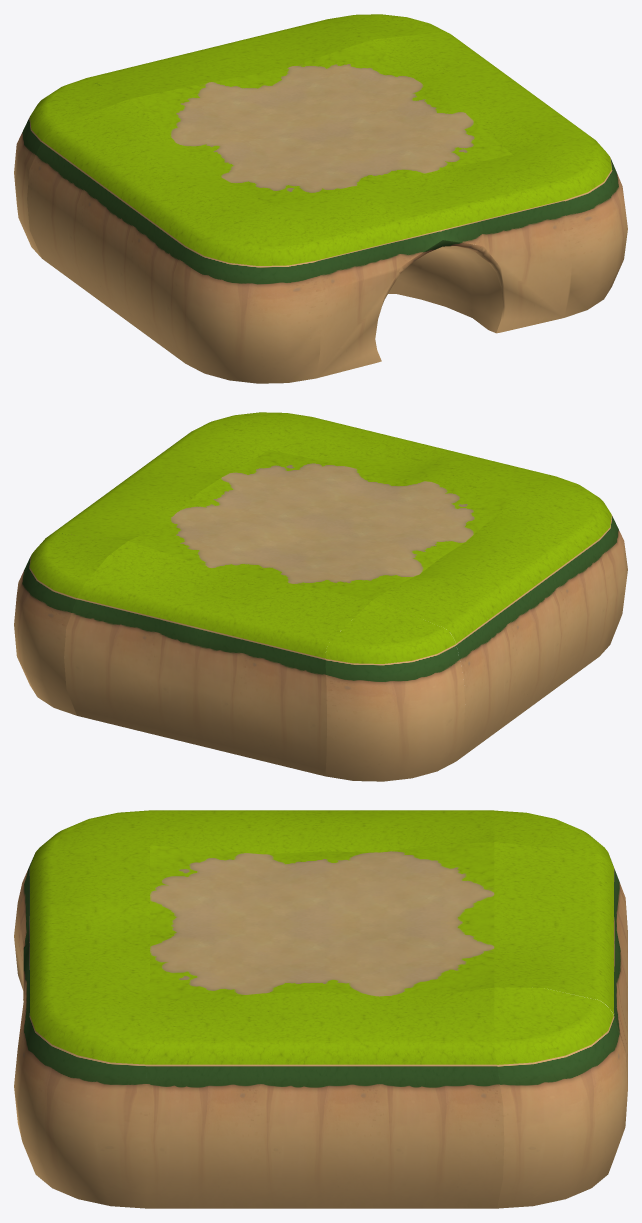
The model's file is Door1023_9.fbx.
3 renders of one model, top to bottom at view 1: azimuth 30°, elevation 25°; view 2: azimuth 150°, elevation 25°; view 3: azimuth 270°, elevation 25°, orthographic. The views are drawn at different scales.
Parts seen in each view (by area): view 1: TM_Grass_BasicCube01.328, Object003; view 2: TM_Grass_BasicCube01.328; view 3: TM_Grass_BasicCube01.328.
Part boxes in pixels (x1,y1,x2,y2): TM_Grass_BasicCube01.328: (14, 14, 627, 383); Object003: (388, 246, 503, 332); TM_Grass_BasicCube01.328: (14, 412, 627, 781); TM_Grass_BasicCube01.328: (14, 810, 627, 1208).
Bounding box in the file's own units: 21.17 × 6.45 × 21.02.
